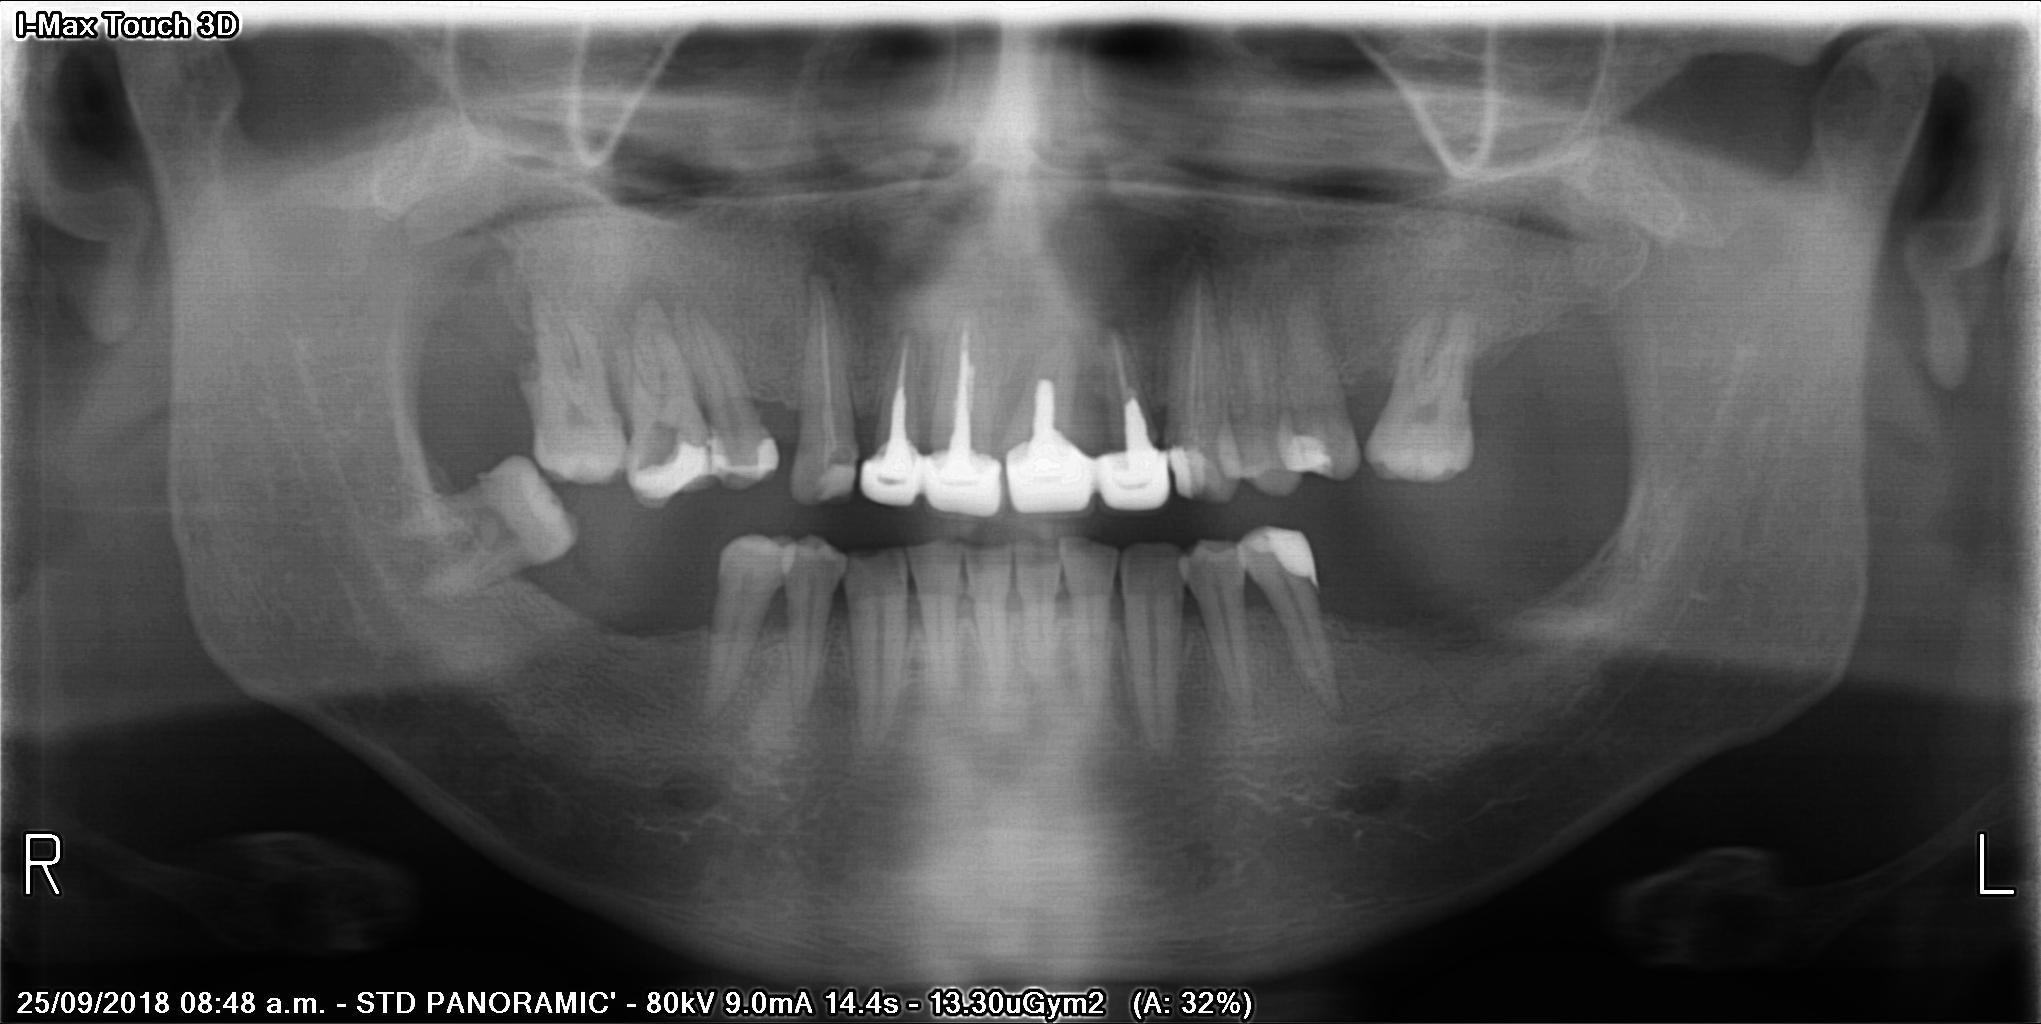Çürük: (999, 432, 1094, 512), (1096, 436, 1163, 512), (921, 444, 999, 509), (863, 434, 923, 512), (1265, 521, 1328, 581), (636, 448, 703, 504), (1169, 434, 1201, 498), (1282, 434, 1335, 468), (751, 435, 786, 485), (709, 431, 730, 486)
Çürük Bölgesi: (631, 418, 686, 475), (1298, 583, 1324, 601)
